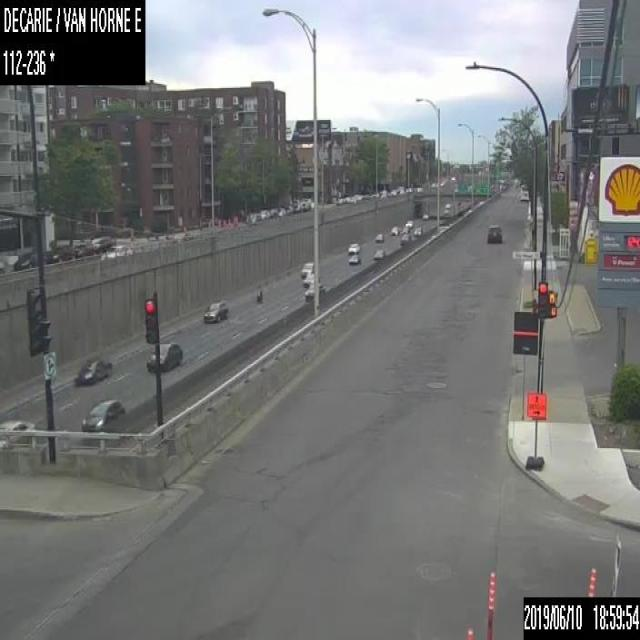construction: (526, 390, 546, 468), (484, 569, 494, 639), (588, 564, 598, 596), (464, 624, 474, 639)
vehicle: (79, 396, 125, 431), (146, 341, 182, 371), (74, 356, 112, 384), (0, 414, 36, 441), (202, 297, 226, 323), (13, 250, 44, 269), (46, 244, 72, 262), (90, 236, 116, 252), (72, 241, 93, 257), (486, 224, 501, 241), (302, 272, 318, 287), (300, 262, 313, 277), (304, 283, 314, 300), (246, 212, 260, 223), (519, 184, 528, 200), (348, 242, 359, 254), (400, 233, 410, 244), (255, 283, 261, 301), (372, 250, 385, 257), (374, 232, 384, 241), (348, 254, 359, 262), (284, 204, 293, 213), (260, 208, 268, 218), (414, 226, 422, 236), (268, 208, 278, 216), (443, 203, 450, 213), (401, 225, 409, 233), (391, 225, 398, 234), (405, 220, 413, 227), (422, 212, 429, 220), (277, 207, 284, 215)
